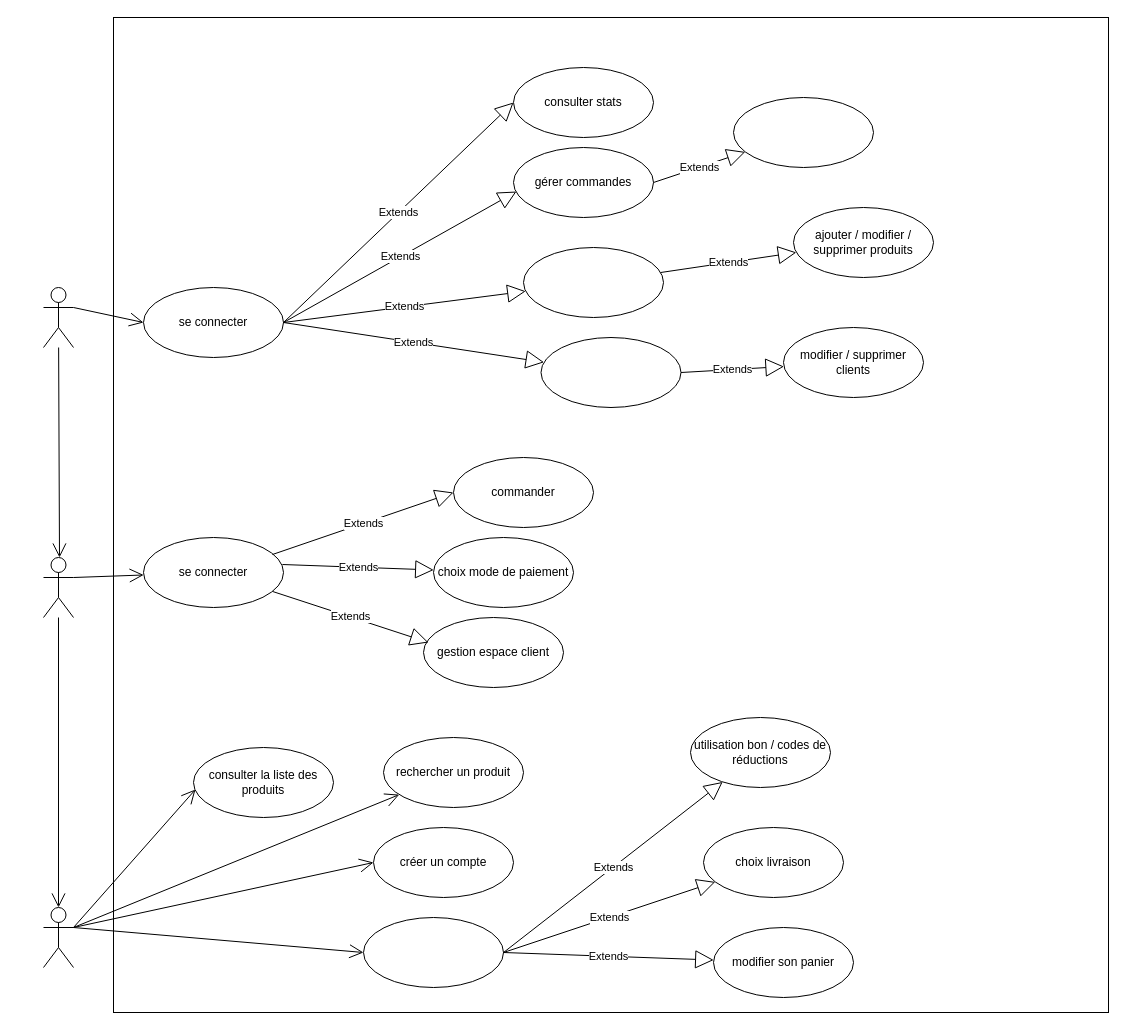
This 1126x1030 diagram has some shape labels left out. The centre of each missing label's shape, as x and y in pixels:
administrateur?: pixel 58 317
alimenter son panier: pixel 433 952
client: pixel 58 587
gérer clients: pixel 610 372
gérer produits: pixel 593 282
modifier / supprimer commandes: pixel 803 132
visiteur: pixel 58 937
